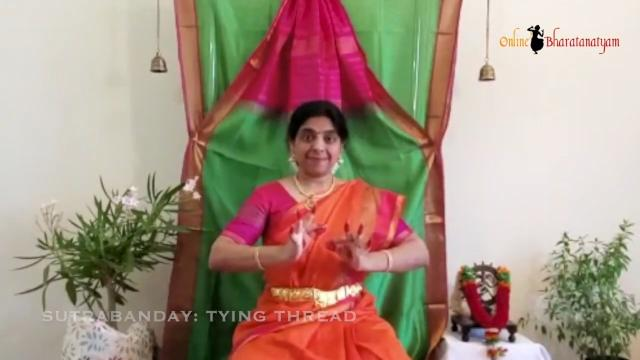hansaasya: (274, 196, 328, 264), (329, 214, 377, 284)
